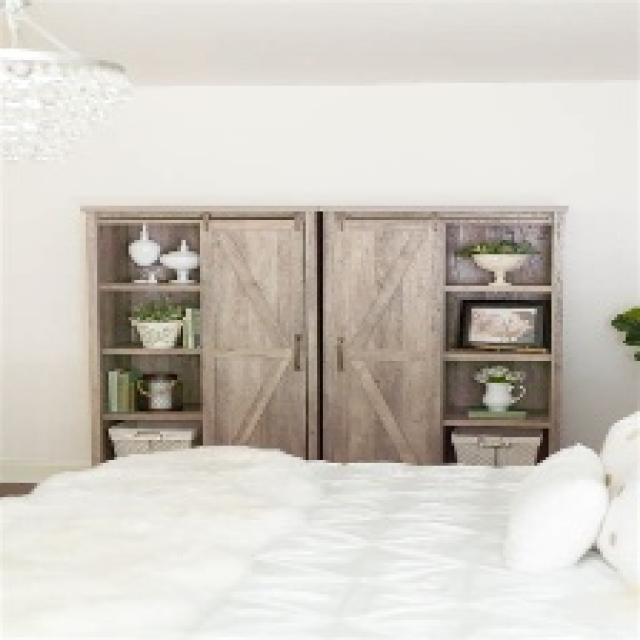Bed: (0, 406, 637, 637)
